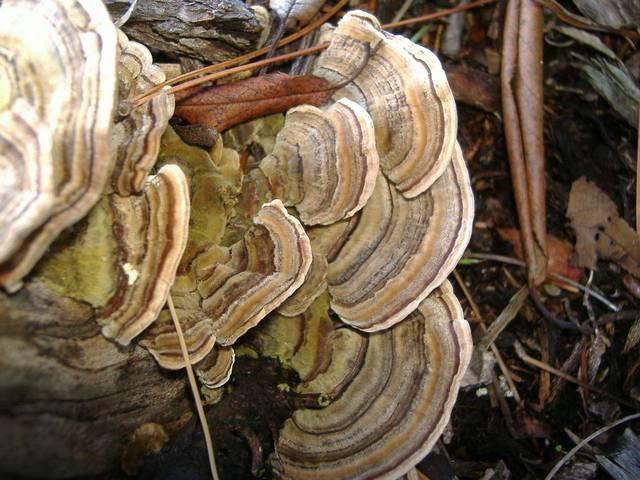Non-edible Mushroom: (1, 1, 478, 478), (258, 8, 476, 333), (0, 0, 119, 294)
